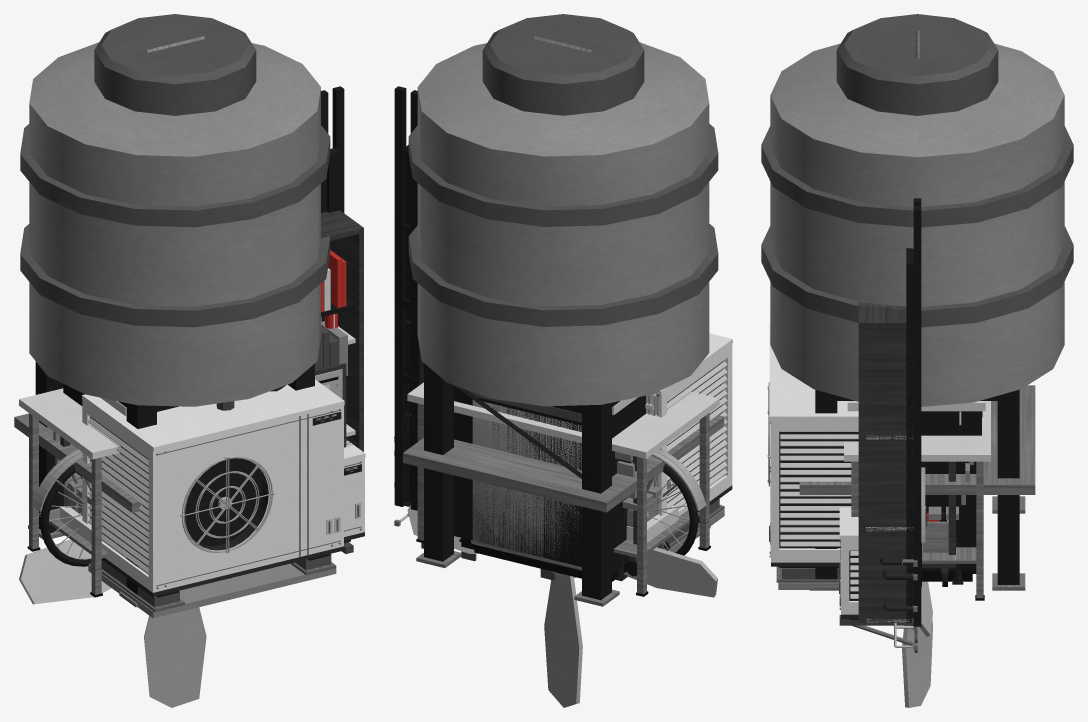
Rendered from porch-iD0J_1J3.glb.
The picture shows the model from 3 angles, left to right: view 1: azimuth 30°, elevation 25°; view 2: azimuth 150°, elevation 25°; view 3: azimuth 270°, elevation 25°; orthographic projection.
Visible parts, largest first — view 1: tank__body, roof_a__body, roof_c__body, fan__body, shelf_books__body, fold_table__body, bicycle__body, ac_w__body, door_panel__body, mailboxes__body; view 2: tank__body, washer__body, counter__body, fold_table__body, fan__body, roof_a__body, bicycle__body, door_panel__body, bench__body, book_cart__body, shelf_books__body; view 3: tank__body, shelf_books__body, roof_a__body, fold_table__body, counter__body, ac_w__body, door_panel__body, fan__body, book_cart__body, roof_c__body, bench__body, bicycle__body.
Part boxes in pixels (x1,y1,x2,y2): tank__body: [14, 14, 344, 607]; roof_a__body: [82, 379, 344, 618]; roof_c__body: [96, 385, 335, 616]; fan__body: [19, 539, 206, 707]; shelf_books__body: [315, 210, 363, 451]; fold_table__body: [19, 388, 120, 597]; bicycle__body: [32, 449, 91, 566]; ac_w__body: [341, 440, 365, 553]; door_panel__body: [321, 148, 339, 325]; mailboxes__body: [315, 363, 346, 447]; tank__body: [394, 14, 724, 606]; washer__body: [468, 390, 581, 578]; counter__body: [454, 386, 645, 581]; fold_table__body: [407, 382, 719, 596]; fan__body: [407, 505, 717, 707]; roof_a__body: [646, 334, 732, 552]; bicycle__body: [647, 450, 706, 555]; door_panel__body: [404, 145, 423, 506]; bench__body: [459, 451, 675, 581]; book_cart__body: [625, 456, 670, 576]; shelf_books__body: [404, 206, 410, 506]; tank__body: [761, 14, 1073, 626]; shelf_books__body: [858, 302, 913, 622]; roof_a__body: [767, 323, 858, 589]; fold_table__body: [844, 401, 990, 600]; counter__body: [847, 401, 985, 581]; ac_w__body: [839, 516, 917, 652]; door_panel__body: [906, 248, 913, 622]; fan__body: [902, 581, 932, 707]; book_cart__body: [922, 461, 955, 586]; roof_c__body: [767, 327, 840, 575]; bench__body: [926, 461, 973, 584]; bicycle__body: [921, 411, 961, 586].
Bounding box in the file's own units: 2.04 × 3.98 × 1.7.
Materials: 3 (3 with a texture image).
